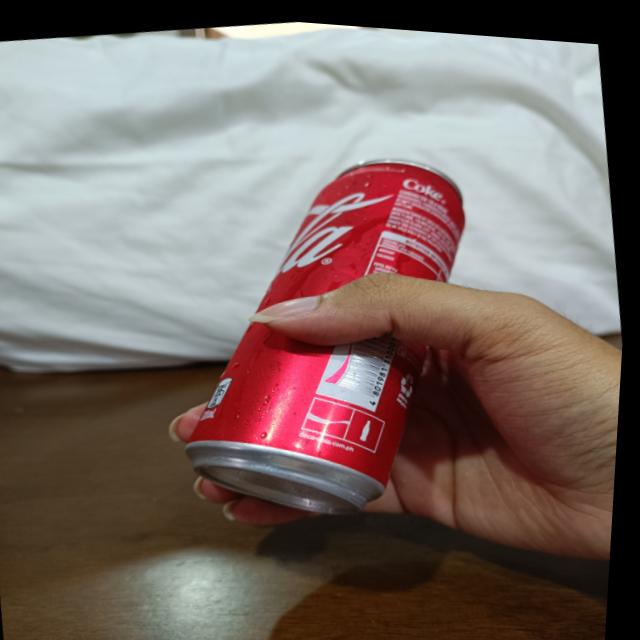coke: (153, 133, 508, 530)
